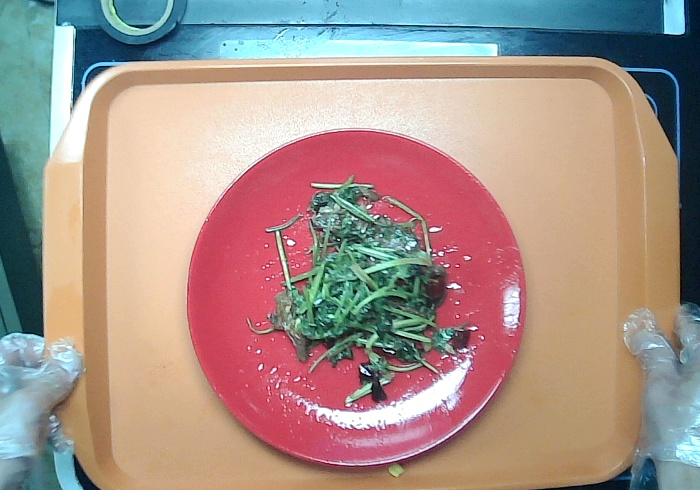HZYJPL-Hong_Se_Yuan_Pan: (180, 123, 533, 473)
